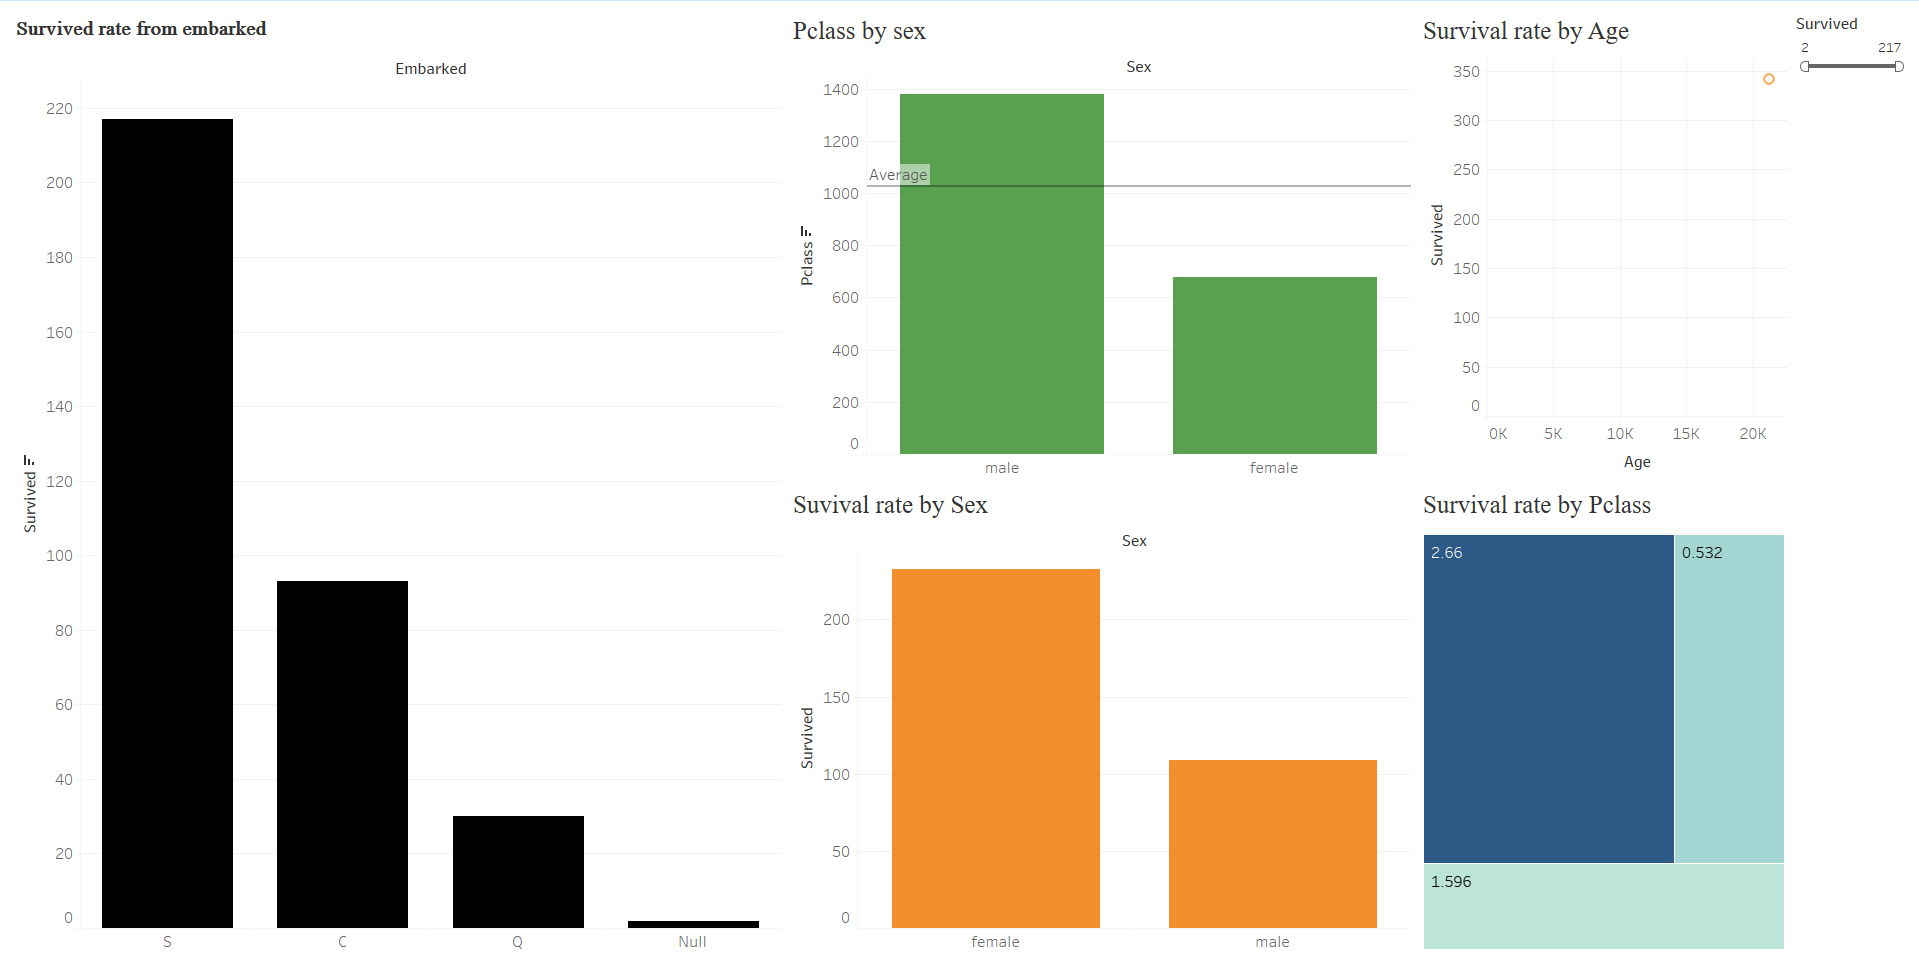

The dashboard page shown, as its layout file describes it:
{"tool":"tableau","page":{"name":"Dashboard 1","canvas":[1000,1000],"units":"permille","ordinal":0},"visuals":[{"type":"worksheet","title":"Sheet 4","mark":"Automatic","rows":["Survived"],"cols":["Embarked"],"box":[4.8,9.3,404.3,981.4]},{"type":"worksheet","title":"Sheet 5","mark":"Automatic","rows":["Pclass"],"cols":["Sex"],"box":[409.2,9.3,321.5,490.7]},{"type":"worksheet","title":"Sheet 3","mark":"Automatic","rows":["Survived"],"cols":["Age"],"box":[730.6,9.3,192.1,490.7]},{"type":"filter","title":"Sheet 4","param":"[federated.1il1xpz1fe6sh51atltqz1b0p4wq].[sum:Survived:qk]","box":[922.8,9.3,72.4,84.8]},{"type":"worksheet","title":"Sheet 1","mark":"Automatic","rows":["Survived"],"cols":["Sex"],"box":[409.2,500,321.5,490.7]},{"type":"worksheet","title":"Sheet 2","mark":"Automatic","rows":["Survived"],"cols":["Pclass"],"box":[730.6,500,192.1,490.7]}]}

Visuals, with their boxes on the dashboard's canvas, which has no fixed pixel size, in thousandths of its width and height (x1, y1, x2, y2). These are canvas units, not pixel positions in the 1919x965 screenshot, which may show the page scaled, cropped or inside an application window:
"Sheet 4" worksheet: <box>5,9,409,991</box>
"Sheet 5" worksheet: <box>409,9,731,500</box>
"Sheet 3" worksheet: <box>731,9,923,500</box>
"Sheet 4" filter: <box>923,9,995,94</box>
"Sheet 1" worksheet: <box>409,500,731,991</box>
"Sheet 2" worksheet: <box>731,500,923,991</box>
